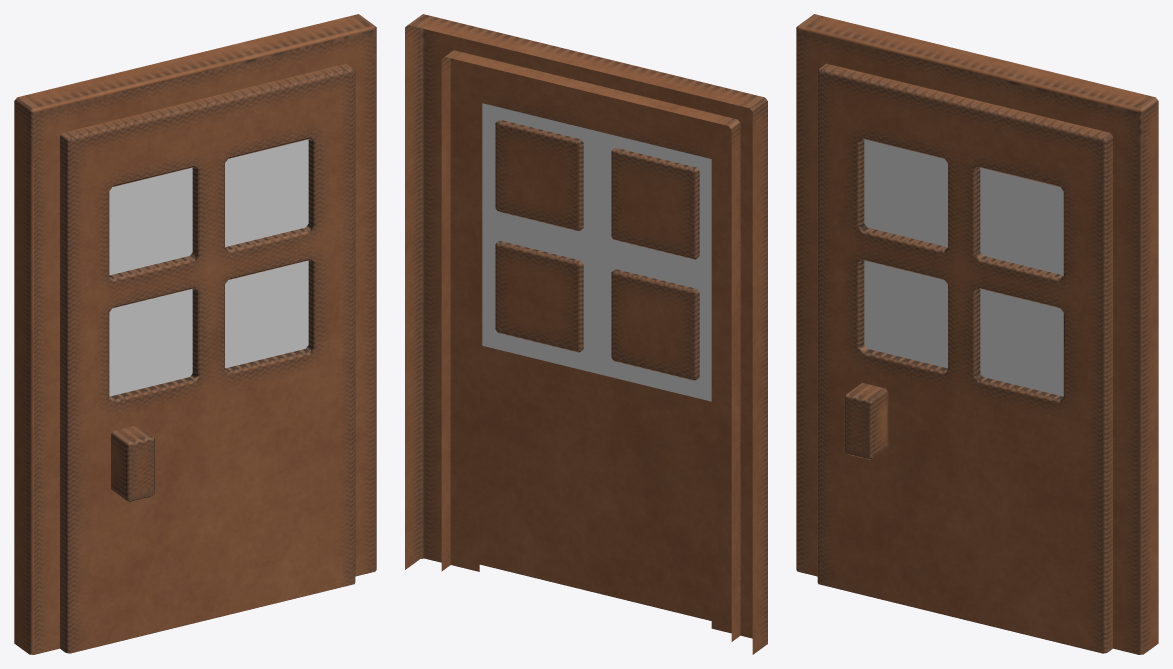
The model's file is door.glb.
3 views of the same model, side by side, from view 1: azimuth 30°, elevation 25°; view 2: azimuth 150°, elevation 25°; view 3: azimuth 330°, elevation 25° (orthographic).
Visible parts, largest first — view 1: door_mesh; view 2: door_mesh; view 3: door_mesh.
Boxes of the visible parts, x1,y1,x2,y2 form: door_mesh: [14, 14, 376, 654]; door_mesh: [405, 14, 767, 654]; door_mesh: [796, 14, 1158, 654].
Size of the model in its own units: 1.2 by 1.8 by 0.2457.
2 materials, 1 textured.
